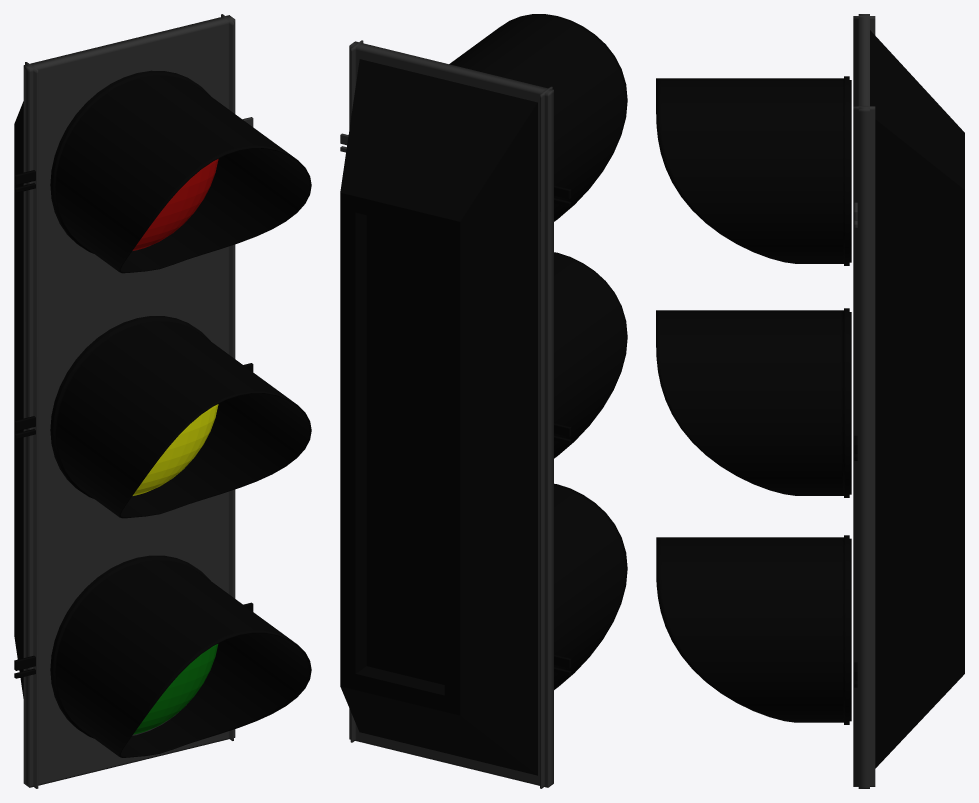
Rendered from Traffic Light.fbx.
The picture shows the model from 3 angles, left to right: view 1: azimuth 30°, elevation 25°; view 2: azimuth 150°, elevation 25°; view 3: azimuth 270°, elevation 25°; orthographic projection. The views are drawn at different scales.
Visible parts, largest first — view 1: Base_LOD0, Lights; view 2: Base_LOD0; view 3: Base_LOD0.
Part boxes in pixels (x1,y1,x2,y2): Base_LOD0: (14, 14, 311, 788); Lights: (132, 159, 218, 734); Base_LOD0: (340, 14, 627, 788); Base_LOD0: (656, 14, 964, 788).
Size of what is drawn, in the model's own units: 67.31 by 195 by 80.11.
